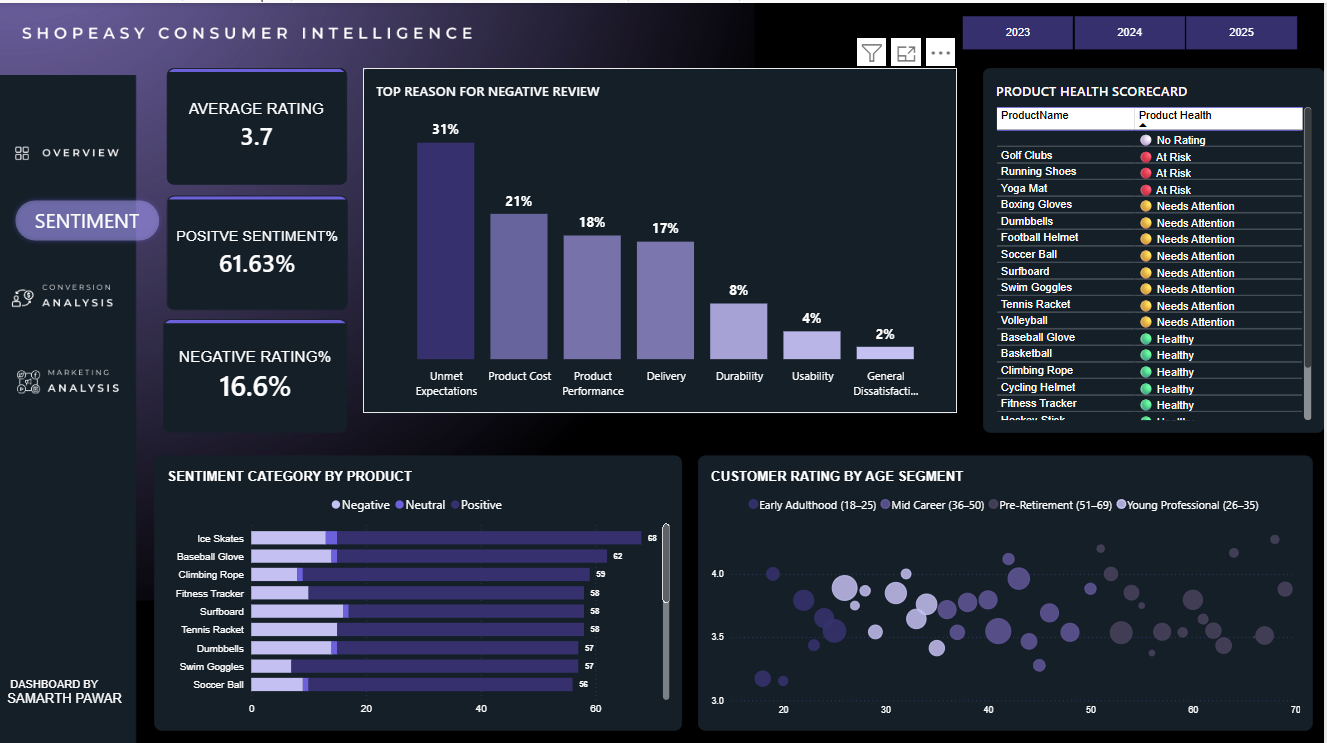

This screenshot's page, from the dashboard's own definition file:
{"tool":"powerbi","page":{"name":" Customer Sentiment","canvas":[1600,900],"ordinal":1},"visuals":[{"type":"cardVisual","fields":{"Data":["calculations.average rating"]},"box":[204,78.2,217.8,141.1],"z":0},{"type":"barChart","title":"SENTIMENT CATEGORY BY PRODUCT","fields":{"Category":["products.ProductName"],"Y":["CountNonNull(customer_reviews_sentiment.ReviewID)"],"Series":["customer_reviews_sentiment.SentimentCategory"]},"box":[188.3,546.7,636.7,331.7],"z":1000},{"type":"shape","box":[0,216.7,161.7,63.3],"z":2000},{"type":"clusteredColumnChart","title":"TOP REASON FOR NEGATIVE  REVIEW","fields":{"Category":["negative_reviews_issues.IssueCategory"],"Y":["Divide(CountNonNull(negative_reviews_issues.IssueCategory), ScopedEval(CountNonNull(negative_reviews_issues.IssueCategor"]},"box":[440,78.3,716.7,416.7],"z":3000},{"type":"scatterChart","title":"CUSTOMER RATING BY AGE SEGMENT","fields":{"Series":["customers.Age Segment"],"X":["customers.Age"],"Size":["CountNonNull(customer_reviews_sentiment.ReviewID)"],"Y":["Avg(customer_reviews_sentiment.Rating)"]},"box":[845,546.7,741.7,331.7],"z":4000},{"type":"tableEx","title":"PRODUCT HEALTH SCORECARD","fields":{"Values":["products.ProductName","calculations.Product Health"]},"box":[1188.3,78.3,411.7,440],"z":5000},{"type":"cardVisual","fields":{"Data":["calculations.% Positive Sentiment"]},"box":[203.3,231.7,218.3,138.3],"z":6000},{"type":"cardVisual","fields":{"Data":["negative_reviews_issues.neagtive review %"]},"box":[199.4,381.9,222.4,136.5],"z":7000},{"type":"shape","box":[0,216.7,215,90],"z":8000},{"type":"slicer","fields":{"Values":["Calendar.Date.Variation.Date Hierarchy.Year"]},"box":[1142.6,13.1,442.6,44.3],"z":9000},{"type":"pageNavigator","box":[0,306.7,183.3,205],"z":10000},{"type":"pageNavigator","box":[0,131.7,183.3,100],"z":11000},{"type":"textbox","box":[0,814.4,182.5,64.4],"z":12000}]}

Visuals, with their boxes in screenshot pixels (x1, y1, x2, y2), scaled from the page's 1600x900 canvas onto the 1327x743 screenshot:
cardVisual - calculations.average rating: box(169, 65, 350, 181)
"SENTIMENT CATEGORY BY PRODUCT" barChart: box(156, 451, 684, 725)
shape: box(0, 179, 134, 231)
"TOP REASON FOR NEGATIVE  REVIEW" clusteredColumnChart: box(365, 65, 959, 409)
"CUSTOMER RATING BY AGE SEGMENT" scatterChart: box(701, 451, 1316, 725)
"PRODUCT HEALTH SCORECARD" tableEx: box(986, 65, 1326, 428)
cardVisual - calculations.% Positive Sentiment: box(169, 191, 350, 305)
cardVisual - negative_reviews_issues.neagtive review %: box(165, 315, 350, 428)
shape: box(0, 179, 178, 253)
slicer - Calendar.Date.Variation.Date Hierarchy.Year: box(948, 11, 1315, 47)
pageNavigator: box(0, 253, 152, 422)
pageNavigator: box(0, 109, 152, 191)
textbox: box(0, 672, 151, 725)
